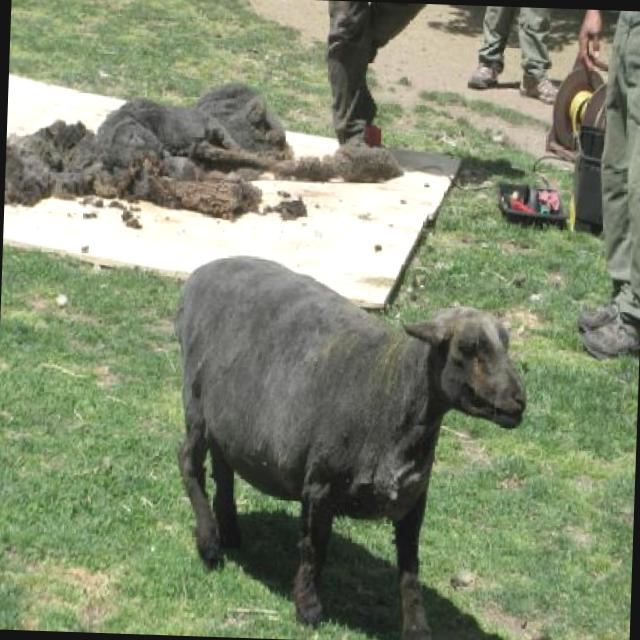Person: (558, 8, 640, 365), (324, 0, 386, 150), (466, 8, 556, 94)
